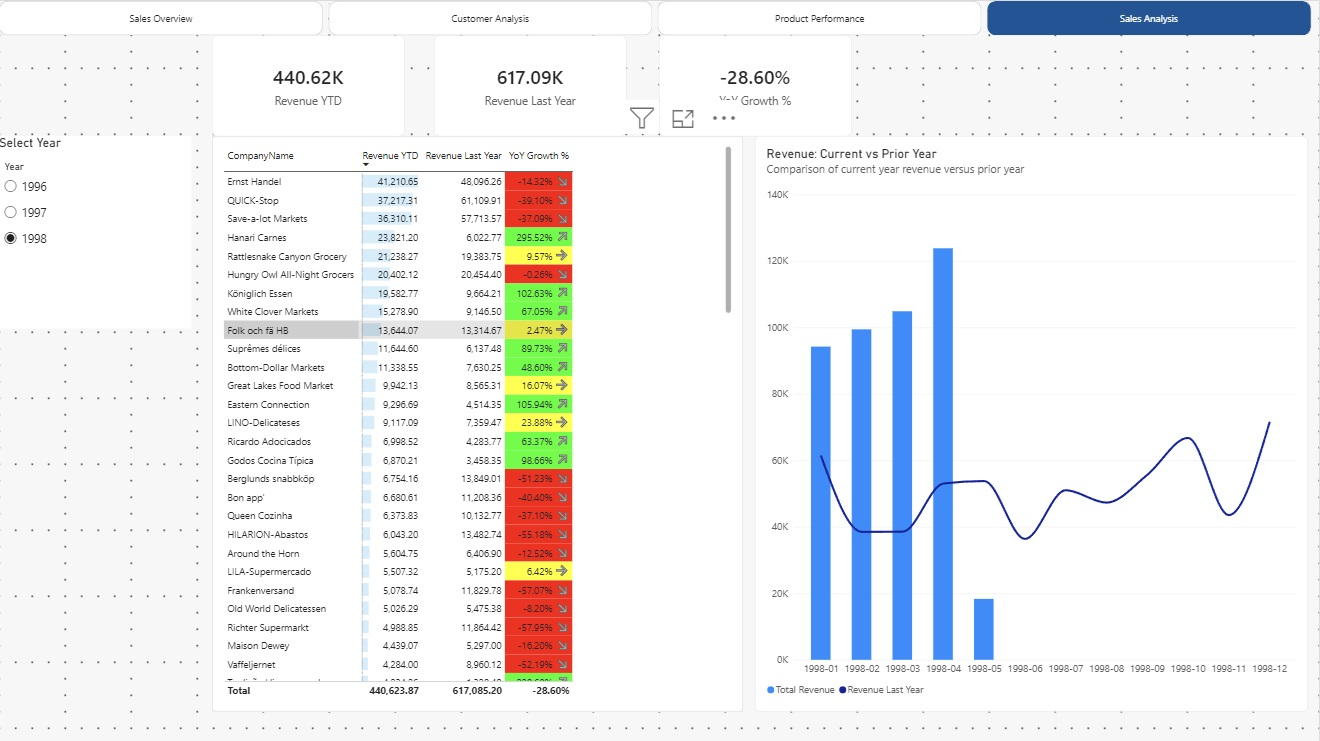

Layout of this report page (visuals, bound fields, positions):
{"tool":"powerbi","page":{"name":"Sales Analysis","canvas":[1920,1080],"ordinal":3},"visuals":[{"type":"slicer","title":"Select Year","fields":{"Values":["Date.Year"]},"box":[0,196.7,280,280],"z":0},{"type":"card","fields":{"Values":["OrderDetails.Revenue YTD"]},"box":[310,50.4,280.1,146.4],"z":1},{"type":"card","fields":{"Values":["OrderDetails.Revenue Last Year"]},"box":[632.7,50.4,280.1,146.4],"z":2},{"type":"card","fields":{"Values":["OrderDetails.YoY Growth %"]},"box":[960,50.4,280.1,146.4],"z":3},{"type":"tableEx","fields":{"Values":["Customers.CompanyName","OrderDetails.Revenue YTD","OrderDetails.Revenue Last Year","OrderDetails.YoY Growth %"]},"box":[310,196.7,772.7,837.2],"z":4},{"type":"lineClusteredColumnComboChart","title":"Revenue: Current vs Prior Year","fields":{"Category":["Date.Year-Month"],"Y":["OrderDetails.Total Revenue"],"Y2":["OrderDetails.Revenue Last Year"]},"box":[1100.1,196.7,804.2,837.2],"z":5},{"type":"pageNavigator","box":[0,0,1909,50.4],"z":6}]}

Visuals, with their boxes in screenshot pixels (x1, y1, x2, y2), scaled from the page's 1920x1080 canvas onto the 1320x741 screenshot:
"Select Year" slicer: (x1=0, y1=135, x2=192, y2=327)
card - OrderDetails.Revenue YTD: (x1=213, y1=35, x2=406, y2=135)
card - OrderDetails.Revenue Last Year: (x1=435, y1=35, x2=628, y2=135)
card - OrderDetails.YoY Growth %: (x1=660, y1=35, x2=853, y2=135)
tableEx - Customers.CompanyName x OrderDetails.Revenue YTD: (x1=213, y1=135, x2=744, y2=709)
"Revenue: Current vs Prior Year" lineClusteredColumnComboChart: (x1=756, y1=135, x2=1309, y2=709)
pageNavigator: (x1=0, y1=0, x2=1312, y2=35)
